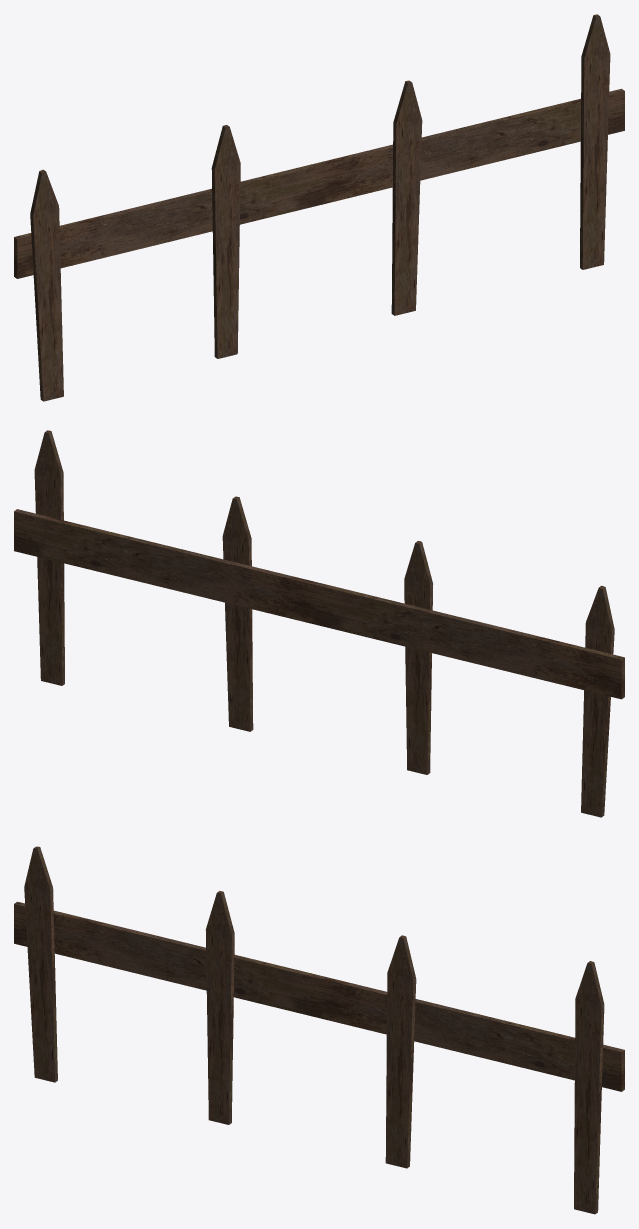
File: Fbxfence.fbx
3 views of the same model, one above another, from view 1: azimuth 30°, elevation 25°; view 2: azimuth 150°, elevation 25°; view 3: azimuth 330°, elevation 25° (orthographic).
Visible parts, largest first — view 1: pCube68, pCube69, pCube5, pCube6, pCube1; view 2: pCube68, pCube69, pCube5, pCube6, pCube1; view 3: pCube68, pCube69, pCube5, pCube6, pCube1.
Part boxes in pixels (x1,y1,x2,y2): pCube68: (14,88,624,278); pCube69: (580,14,610,269); pCube5: (391,80,422,315); pCube6: (30,169,63,401); pCube1: (211,125,240,358); pCube68: (14,509,624,699); pCube69: (34,430,64,685); pCube5: (222,496,253,731); pCube6: (581,585,614,817); pCube1: (404,541,433,774); pCube68: (14,901,624,1091); pCube69: (574,961,604,1214); pCube5: (385,935,416,1168); pCube6: (24,846,57,1082); pCube1: (205,891,234,1124).
Size of the model in its own units: 12.05 by 4.73 by 0.2069.
Materials: 1 (1 with a texture image).
